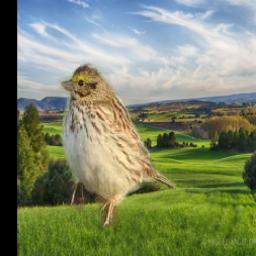Sparrow: (55, 59, 176, 226)
